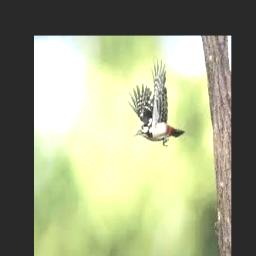Woodpecker: (127, 56, 184, 147)
